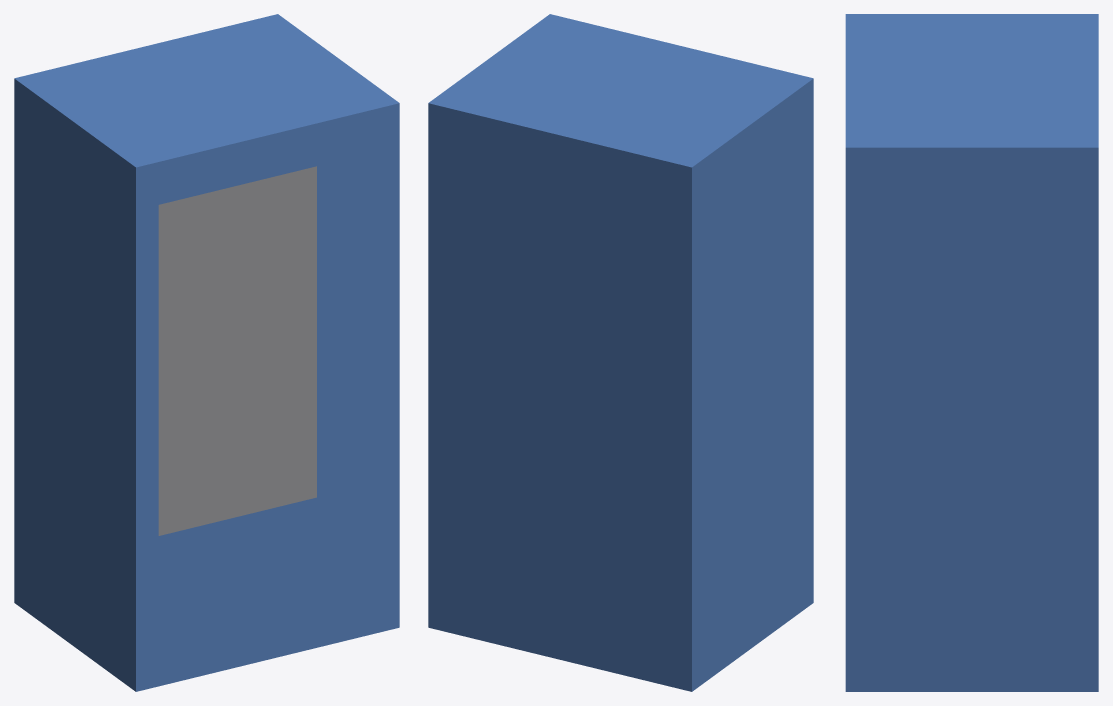
The model's file is vending_blue.glb.
3 renders of one model, left to right at view 1: azimuth 30°, elevation 25°; view 2: azimuth 150°, elevation 25°; view 3: azimuth 270°, elevation 25°, orthographic. The views are drawn at different scales.
Visible parts, largest first — view 1: box, glow; view 2: box; view 3: box.
Boxes of the visible parts, x1,y1,x2,y2 form: box: (14,14,399,691); glow: (158,166,316,535); box: (428,14,813,691); box: (845,14,1098,691).
Size of the model in its own units: 1 by 1.9 by 0.81.
